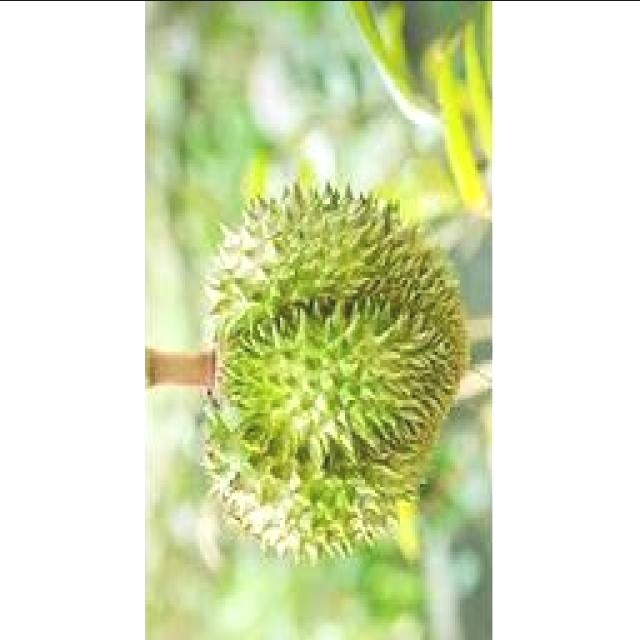agrume: (192, 163, 480, 572)
